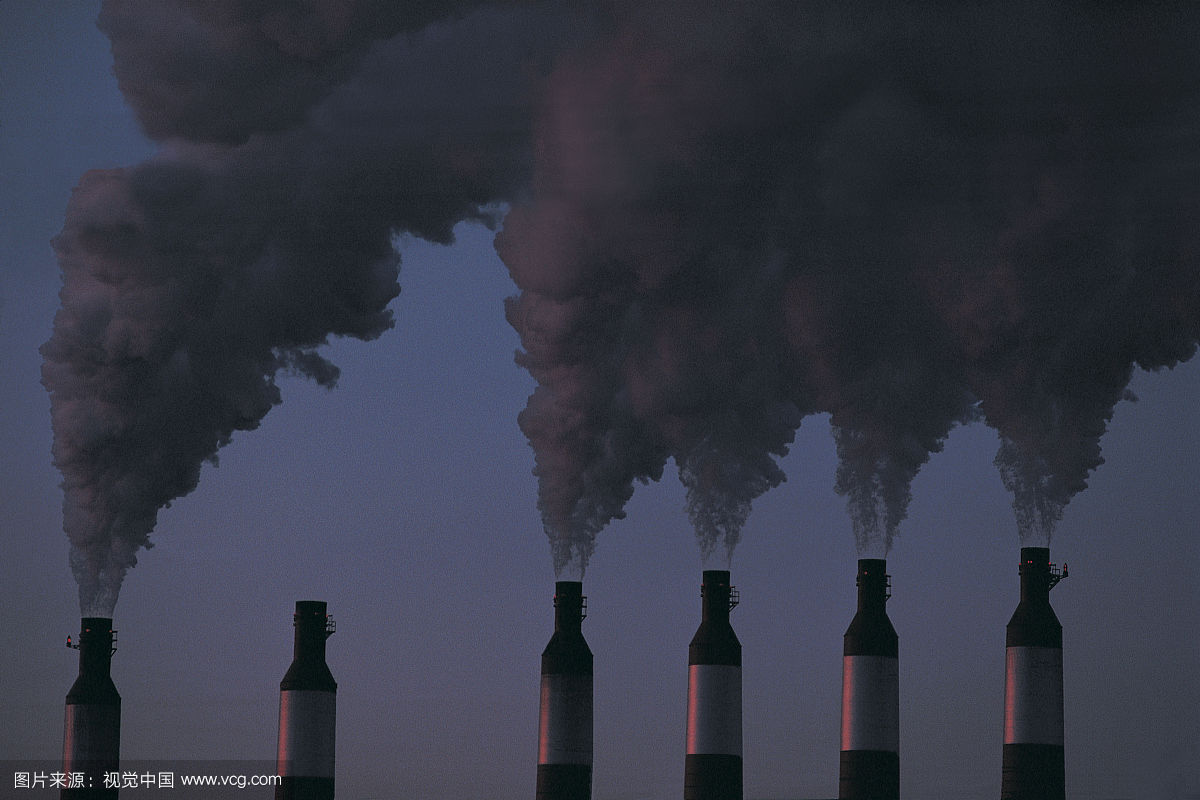dust: (37, 179, 262, 622), (613, 242, 797, 578), (964, 219, 1150, 549), (470, 218, 632, 584), (777, 232, 963, 548)
